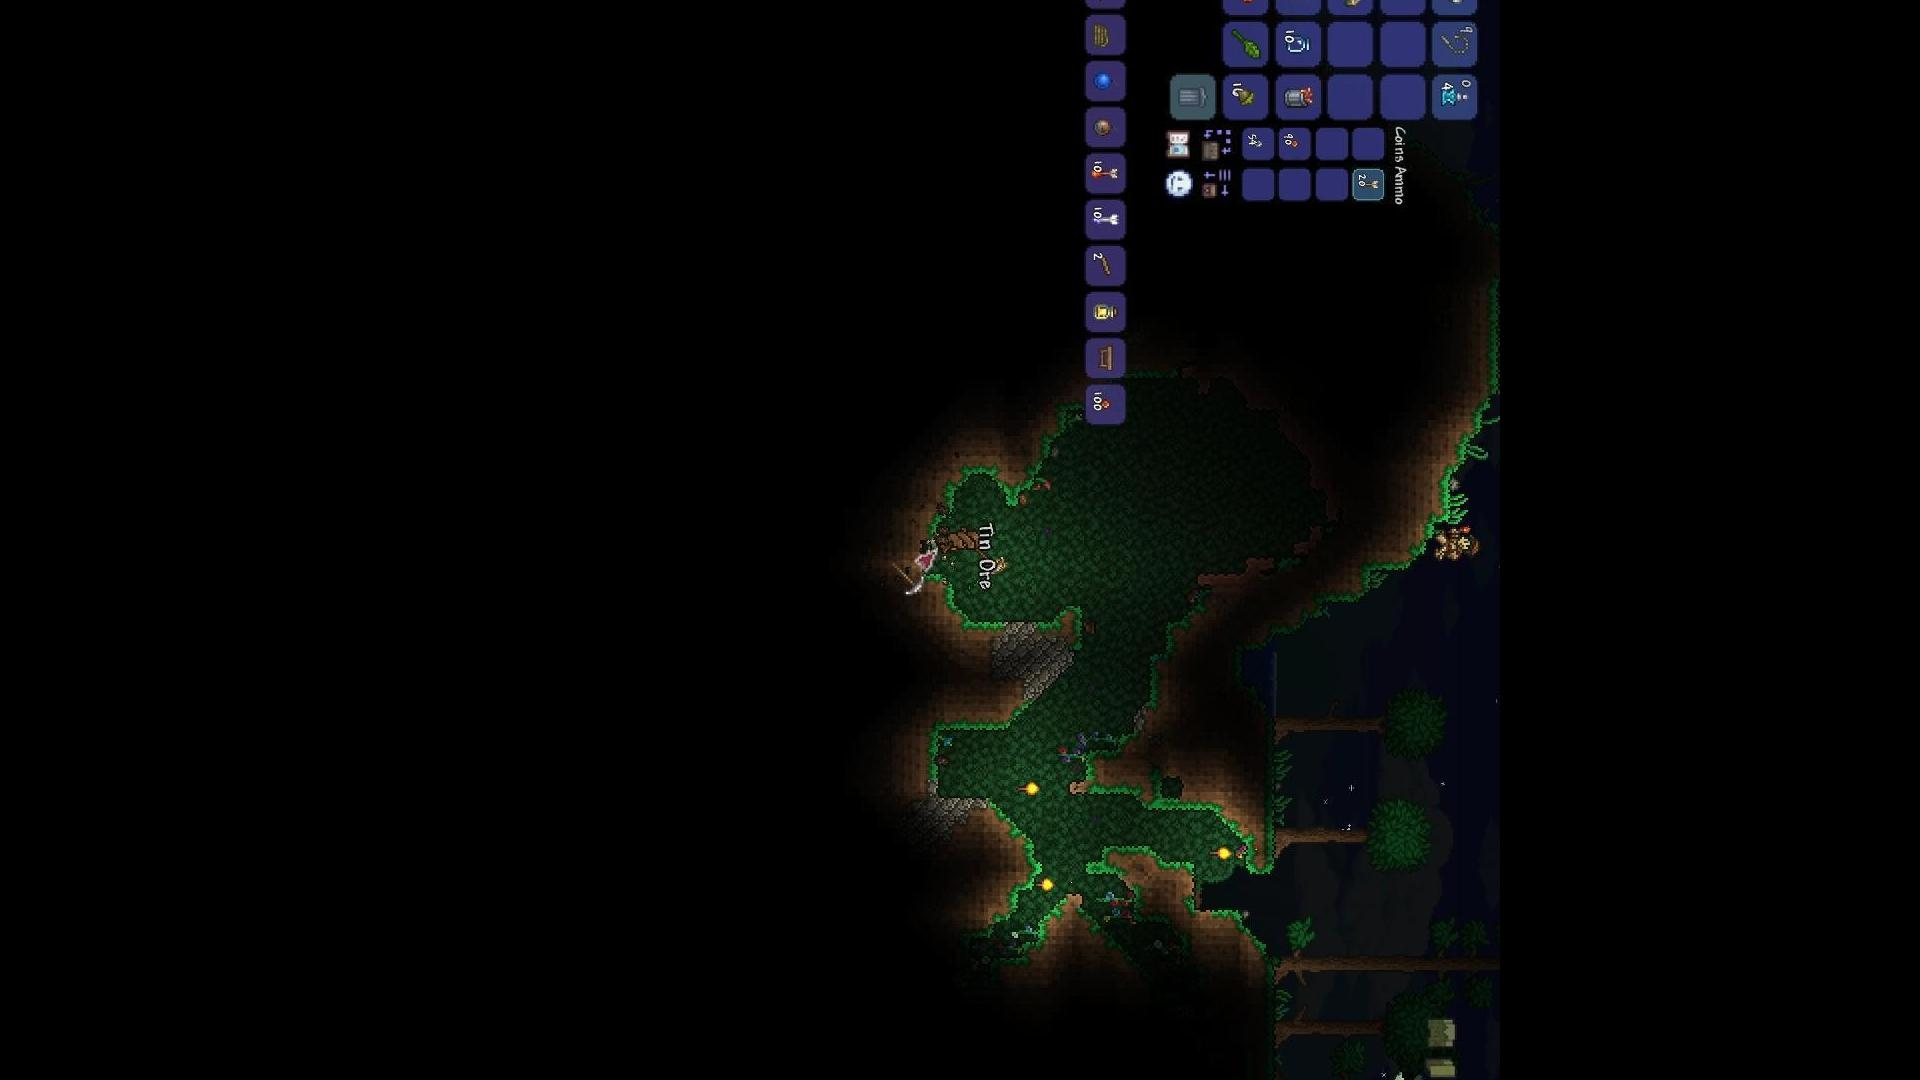arrow: (1092, 165, 1121, 179), (1093, 214, 1124, 227), (1356, 178, 1383, 191)
bar: (1338, 0, 1365, 11)
recallP: (1439, 90, 1469, 108)
workbench: (1096, 343, 1117, 373)
